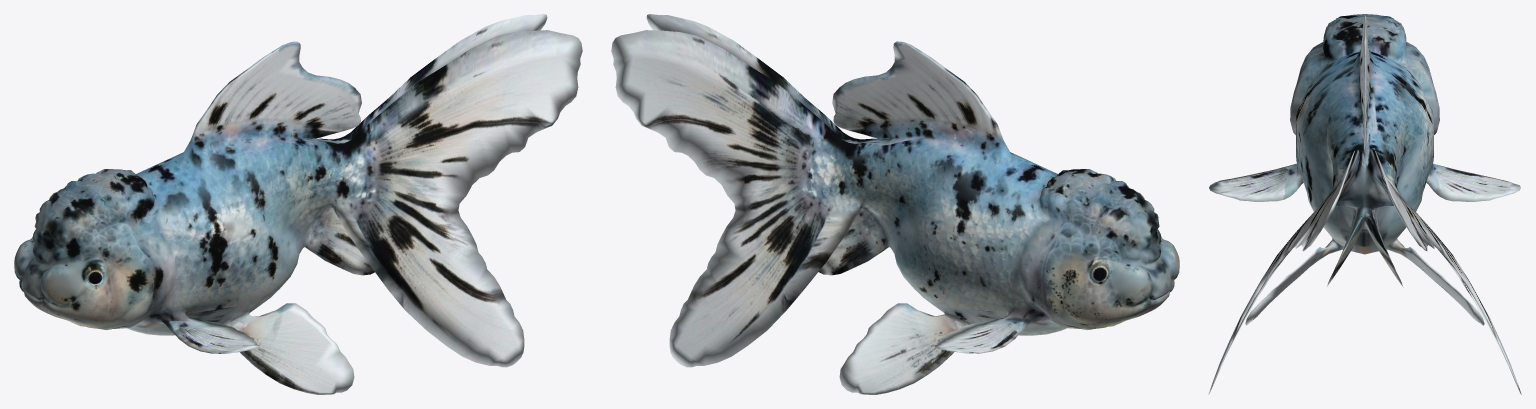
Rendered from fish.glb.
The picture shows the model from 3 angles, left to right: view 1: azimuth 30°, elevation 25°; view 2: azimuth 150°, elevation 25°; view 3: azimuth 270°, elevation 25°; orthographic projection.
Visible parts, largest first — view 1: fish; view 2: fish; view 3: fish.
Part boxes in pixels (box(x1,y1,x2,y2)): fish: box(14, 14, 582, 394); fish: box(611, 14, 1179, 394); fish: box(1208, 14, 1521, 394).
Size of the model in its own units: 0.12 by 0.0655 by 0.06.
Materials: 1 (1 with a texture image).
